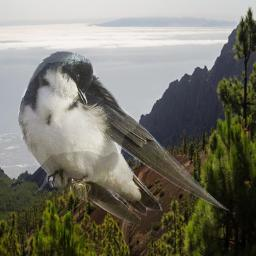Swallow: (14, 48, 230, 228)
